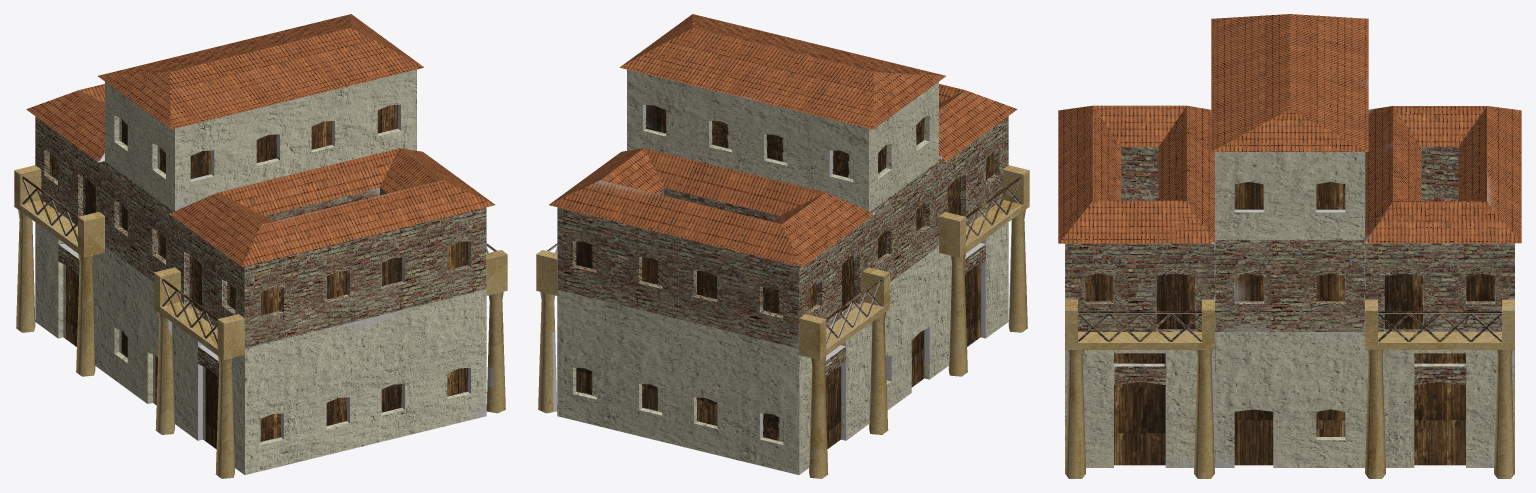
The model's file is insula_2.glb.
3 views of the same model, side by side, from view 1: azimuth 30°, elevation 25°; view 2: azimuth 150°, elevation 25°; view 3: azimuth 270°, elevation 25° (orthographic). The views are drawn at different scales.
Parts seen in each view (by area): view 1: insula2_0; view 2: insula2_0; view 3: insula2_0.
Part boxes in pixels (x1,y1,x2,y2): insula2_0: [14, 14, 507, 478]; insula2_0: [536, 14, 1029, 478]; insula2_0: [1058, 14, 1521, 478].
Size of the model in its own units: 0.675 by 0.7286 by 0.8875.
Materials: 1 (1 with a texture image).
